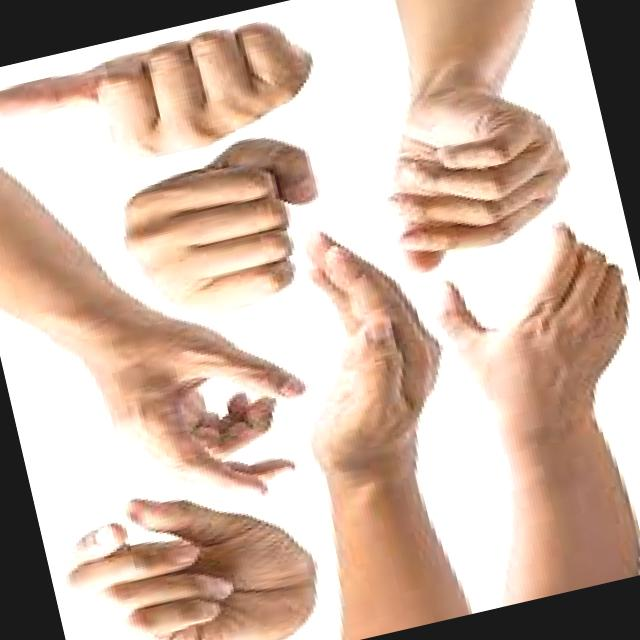Hand: (51, 294, 330, 536), (0, 2, 331, 197), (252, 202, 472, 472), (88, 121, 342, 335), (44, 459, 332, 640), (356, 63, 594, 278), (412, 203, 640, 417)
